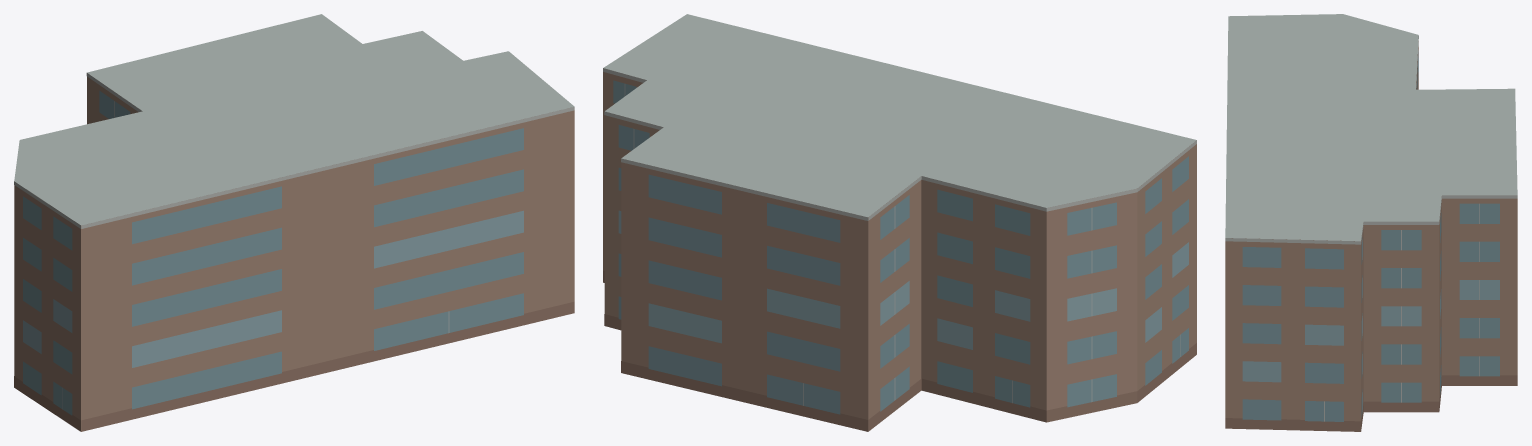
Rendered from survey-upis-32968338.glb.
3 renders of one model, left to right at view 1: azimuth 30°, elevation 25°; view 2: azimuth 150°, elevation 25°; view 3: azimuth 270°, elevation 25°, orthographic. The views are drawn at different scales.
Parts seen in each view (by area): view 1: survey-upis-32968338.tmp; view 2: survey-upis-32968338.tmp; view 3: survey-upis-32968338.tmp.
Boxes of the visible parts, <box> form: survey-upis-32968338.tmp: <box>14,14,574,431</box>; survey-upis-32968338.tmp: <box>603,14,1196,431</box>; survey-upis-32968338.tmp: <box>1225,14,1517,431</box>.
Bounding box in the file's own units: 35.55 × 13.9 × 19.32.
